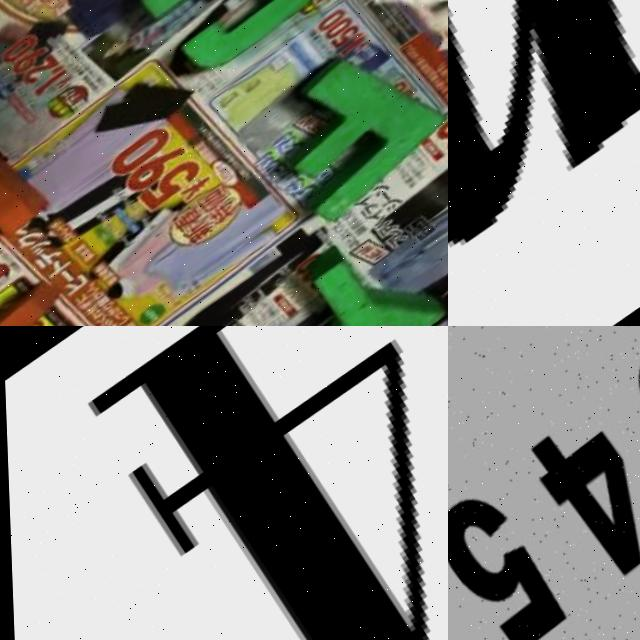3: (590, 326, 640, 565)
4: (497, 385, 640, 632)
5: (448, 454, 602, 640)
C: (114, 0, 339, 102)
F: (241, 37, 448, 244)
M: (448, 0, 640, 326)
Y: (253, 218, 441, 326)
